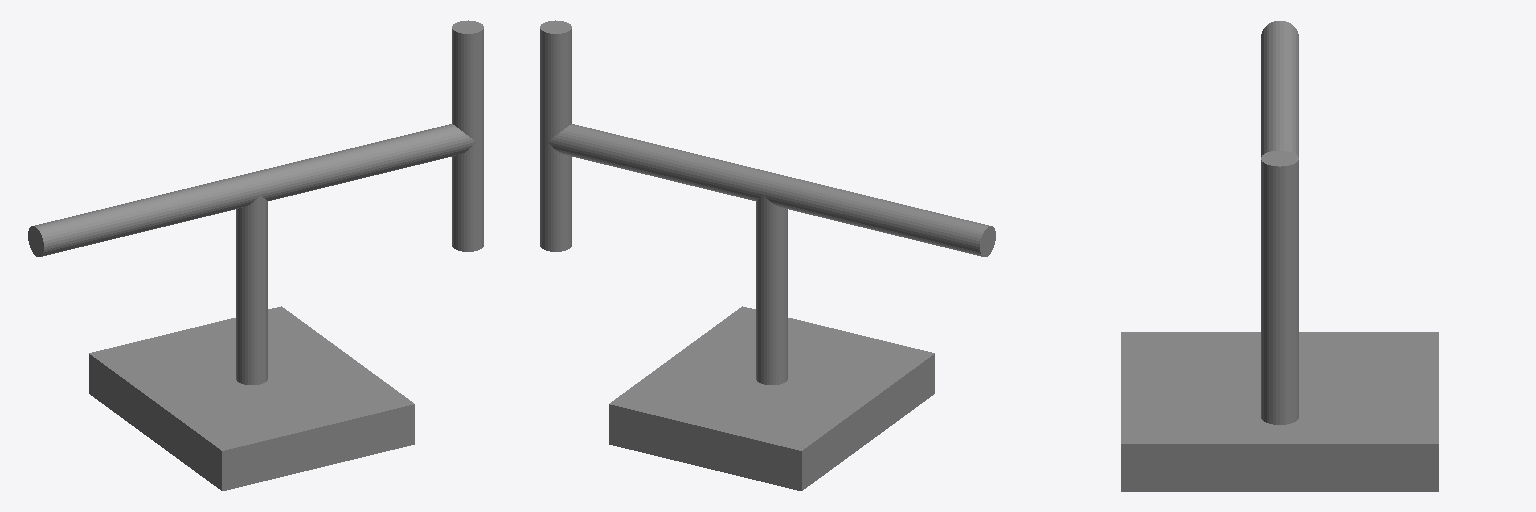
URDF robot description (claw):
<?xml version="1.0"?>
<robot name="claw">

	<material name="grey">
		<color rgba="0.6 0.6 0.6 1"/>
	</material>
	<material name="black">
		<color rgba="0 0 0 1"/>
	</material>
	<material name="white">
		<color rgba="1 1 1 1"/>
	</material>

	<link name="base_link">
		<collision>
			<origin rpy="0 0 0" xyz="0 0 0"/>
			<geometry>
				<cylinder length="0.26" radius="0.018"/>
			</geometry>
		</collision>
		<visual>
			<origin rpy="0 0 0" xyz="0 0 0"/>
			<geometry>
				<cylinder length="0.26" radius="0.018"/>
			</geometry>
			<material name="grey"/>
		</visual>
		<inertial>
			<mass value="0.1"/>
			<inertia ixx="1.0" ixy="0.0" ixz="0.0" iyy="1.0" iyz="0.0" izz="1.0"/>
		</inertial>
	</link>

	<link name="base_box">
		<collision>
			<origin rpy="0 0 0" xyz="0 0 0"/>
			<geometry>
				<box size="0.25 0.3 0.05"/>
			</geometry>
		</collision>
		<visual>
			<origin rpy="0 0 0" xyz="0 0 0"/>
			<geometry>
				<box size="0.25 0.3 0.05"/>
			</geometry>
			<material name="grey"/>
		</visual>
		<inertial>
			<mass value="1000.0"/>
			<inertia ixx="0.0" ixy="0.0" ixz="0.0" iyy="0.0" iyz="0.0" izz="1.0"/>
		</inertial>
	</link>

	<joint name="base_joint" type="fixed">
		<parent link="base_link"/>
		<child link="base_box"/>
		<origin xyz="0 0 -0.13"/>
	</joint>


	<link name="horizontal">
		<collision>
			<origin rpy="0 1.57075 0" xyz="0 0 0"/>
			<geometry>
				<cylinder length="0.56" radius="0.018"/>
			</geometry>
		</collision>
		<visual>
			<origin rpy="0 1.57075 0" xyz="0 0 0"/>
			<geometry>
				<cylinder length="0.56" radius="0.018"/>
			</geometry>
			<material name="grey"/>
		</visual>
		<inertial>
			<mass value="0.1"/>
			<inertia ixx="1.0" ixy="0.0" ixz="0.0" iyy="1.0" iyz="0.0" izz="1.0"/>
		</inertial>
	</link>

	<joint name="base_to_horizontal" type="prismatic">
		<parent link="base_link"/>
		<child link="horizontal"/>
		<limit effort="1000.0" lower="-0.28" upper="0.28" velocity="0.5"/>
		<origin xyz="0 0 0.13"/>
	</joint>

	<link name="final_arm">
		<collision>
			<origin rpy="0 0 0" xyz="0 0 0"/>
			<geometry>
				<cylinder length="0.27" radius="0.018"/>
			</geometry>
		</collision>
		<visual>
			<origin rpy="0 0 0" xyz="0 0 0"/>
			<geometry>
				<cylinder length="0.27" radius="0.018"/>
			</geometry>
			<material name="grey"/>
		</visual>
		<inertial>
			<mass value="0.1"/>
			<inertia ixx="1.0" ixy="0.0" ixz="0.0" iyy="1.0" iyz="0.0" izz="1.0"/>
		</inertial>
	</link>

	<joint name="horizontal_to_final_arm" type="prismatic">
		<axis xyz="0 0 1"/>
		<parent link="horizontal"/>
		<child link="final_arm"/>
		<limit effort="1000.0" lower="-0.135" upper="0.135" velocity="0.5"/>
		<origin xyz="0.28 0 0"/>
	</joint>

	<link name="left_gripper">
		<collision>
			<origin rpy="0.0 1.57075 0" xyz="0 0 0"/>
			<geometry>
				<mesh filename="package://urdf_tutorial/meshes/l_finger.dae"/>
			</geometry>
		</collision>
		<visual>
			<origin rpy="0.0 1.57075 0" xyz="0 0 0"/>
			<geometry>
				<mesh filename="package://urdf_tutorial/meshes/l_finger.dae"/>
			</geometry>
		</visual>
		<inertial>
			<mass value="0.1"/>
			<inertia ixx="1.0" ixy="0.0" ixz="0.0" iyy="1.0" iyz="0.0" izz="1.0"/>
		</inertial>
	</link>

	<joint name="left_gripper_joint" type="revolute">
		<axis xyz="1 0 0"/>
		<limit effort="1000.0" lower="0.0" upper="1.5" velocity="0.5"/>
		<origin rpy="0 0 0" xyz="0 0 -0.135"/>
		<parent link="final_arm"/>
		<child link="left_gripper"/>
	</joint>

	<link name="right_gripper">
		<collision>
			<origin rpy="-3.1415 1.57075 0" xyz="0 0 0"/>
			<geometry>
				<mesh filename="package://urdf_tutorial/meshes/l_finger.dae"/>
			</geometry>
		</collision>
		<visual>
			<origin rpy="-3.1415 1.57075 0" xyz="0 0 0"/>
			<geometry>
				<mesh filename="package://urdf_tutorial/meshes/l_finger.dae"/>
			</geometry>
		</visual>
		<inertial>
			<mass value="0.1"/>
			<inertia ixx="1.0" ixy="0.0" ixz="0.0" iyy="1.0" iyz="0.0" izz="1.0"/>
		</inertial>
	</link>

	<joint name="right_gripper_joint" type="revolute">
		<axis xyz="-1 0 0"/>
		<limit effort="1000.0" lower="0.0" upper="1.5" velocity="0.5"/>
		<origin rpy="0 0 0" xyz="0 0 -0.135"/>
		<parent link="final_arm"/>
		<child link="right_gripper"/>
		<mimic joint="left_gripper_joint" multiplier="1" offset="0"/>
	</joint>

 <!--Transimission-->

  <transmission name="horizontal_extension_trans" type="SimpleTransmission">
    <type>transmission_interface/SimpleTransmission</type>
    <actuator name="horizontal_extension_motor">
      <mechanicalReduction>1</mechanicalReduction>
    </actuator>
    <joint name="base_to_horizontal">
      <hardwareInterface>PositionJointInterface</hardwareInterface>
    </joint>
  </transmission>

  <transmission name="vertical_extension_trans" type="SimpleTransmission">
    <type>transmission_interface/SimpleTransmission</type>
    <actuator name="vertical_extension_motor">
      <mechanicalReduction>1</mechanicalReduction>
    </actuator>
    <joint name="horizontal_to_final_arm">
      <hardwareInterface>PositionJointInterface</hardwareInterface>
    </joint>
  </transmission>

    <transmission name="gripper_trans" type="SimpleTransmission">
      <type>transmission_interface/SimpleTransmission</type>
      <actuator name="$gripper_motor">
        <mechanicalReduction>1</mechanicalReduction>
      </actuator>
      <joint name="right_gripper_joint">
        <hardwareInterface>PositionJointInterface</hardwareInterface>
      </joint>
    </transmission>

 <!--gazebo plugin-->  
  <gazebo>
    <plugin name="gazebo_ros_control" filename="libgazebo_ros_control.so">
    </plugin>
  </gazebo>

</robot>

--- What the picture shows (computed from the rendered views, not written in the file) ---
3 views of the same robot in one strip: view 1: azimuth 30°, elevation 25°; view 2: azimuth 150°, elevation 25°; view 3: azimuth 270°, elevation 25° (orthographic).
Robot: claw — 6 links, 5 joints (2 revolute, 2 prismatic, 1 fixed); root link base_link; default pose: all joints at 0.
Links seen in each view (by area): view 1: base_box, horizontal, final_arm, base_link; view 2: base_box, horizontal, final_arm, base_link; view 3: base_box, final_arm, horizontal.
Boxes of the visible links, x1,y1,x2,y2 form: base_box: [89, 306, 414, 490]; horizontal: [28, 124, 475, 256]; final_arm: [452, 20, 483, 251]; base_link: [236, 195, 267, 384]; base_box: [609, 306, 934, 490]; horizontal: [548, 124, 995, 256]; final_arm: [540, 20, 571, 251]; base_link: [756, 195, 787, 384]; base_box: [1121, 332, 1438, 491]; final_arm: [1261, 150, 1298, 424]; horizontal: [1261, 21, 1298, 156].
Bounding box of the posed robot: 0.578 × 0.3 × 0.42 m (x, y, z).
Meshes: 1 distinct files referenced, 0 mesh visuals loaded (none loaded); not drawn: 2 (reference not matched to a file when rendering).